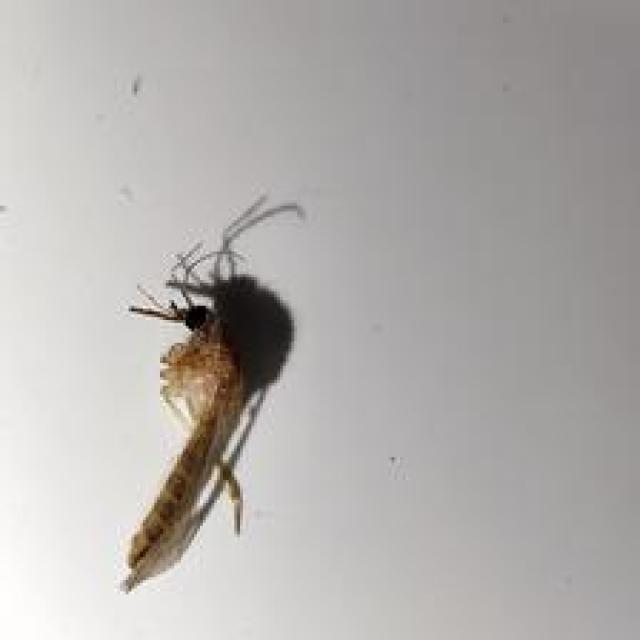Culex: (117, 193, 306, 596)
